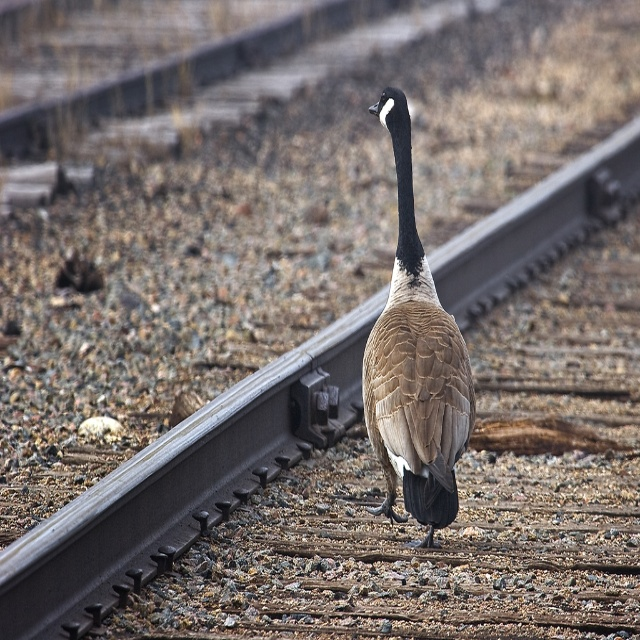Duck: (350, 83, 484, 566)
